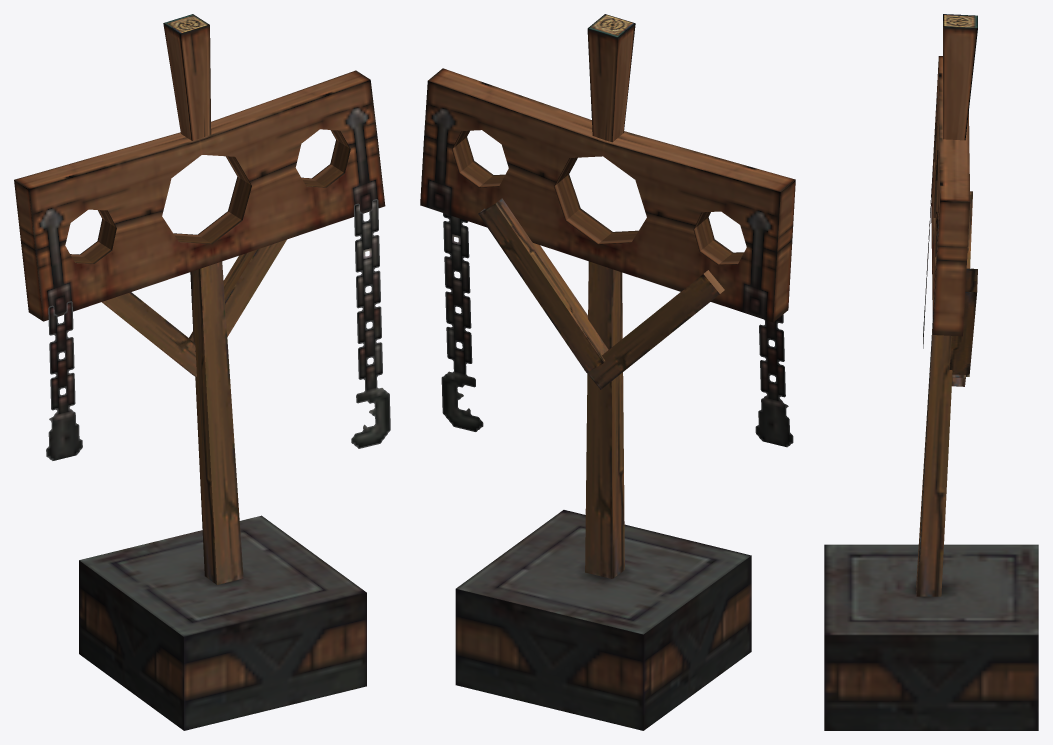
Rendered from 2_WGJ_XingJu_01.FBX.
3 renders of one model, left to right at view 1: azimuth 30°, elevation 25°; view 2: azimuth 150°, elevation 25°; view 3: azimuth 270°, elevation 25°, orthographic. The views are drawn at different scales.
Parts seen in each view (by area): view 1: 2_WGJ_XingJu_01; view 2: 2_WGJ_XingJu_01; view 3: 2_WGJ_XingJu_01.
Boxes of the visible parts, x1=… form: 2_WGJ_XingJu_01: x1=14, y1=14, x2=390, y2=730; 2_WGJ_XingJu_01: x1=420, y1=14, x2=795, y2=730; 2_WGJ_XingJu_01: x1=824, y1=14, x2=1038, y2=730.
Size of the model in its own units: 258 by 448 by 133.
